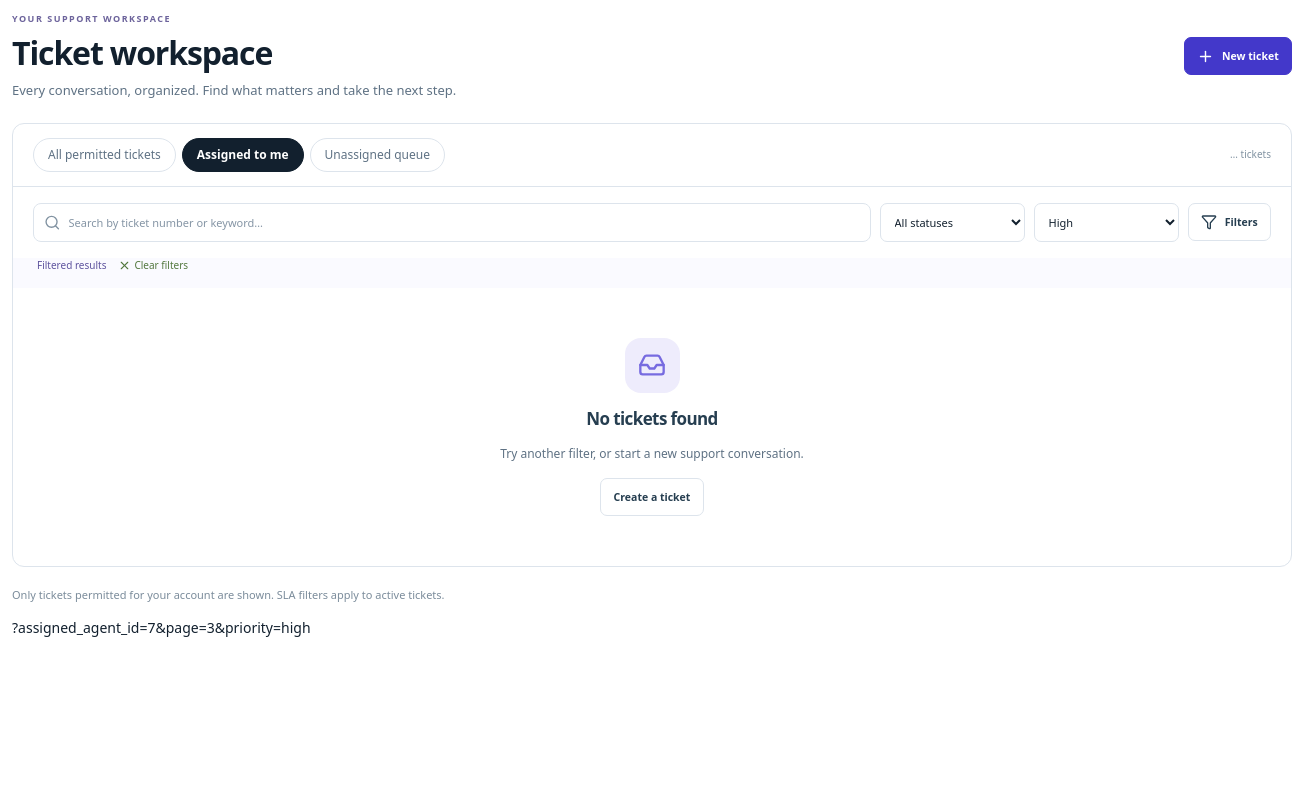
Test case: ticket queue filters › switches Unassigned queue atomically
This screenshot has width=1292, height=812.
What coordinates should you click on to do the following:
click the button "Unassigned queue"
I would click on:
 (377, 155)
Its box is [310,138,445,172].
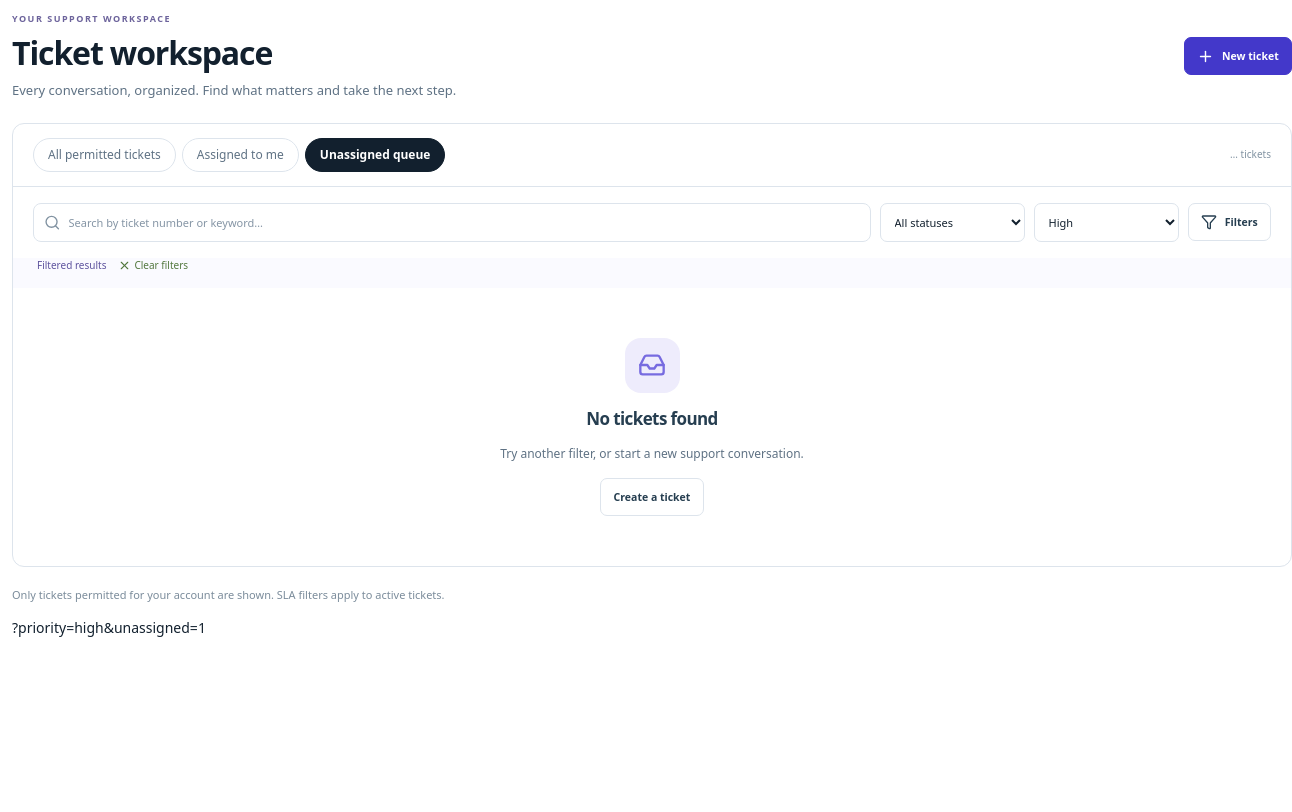
Check: the text with test id "location" shows "unassigned=1", box [12,618,206,637]
